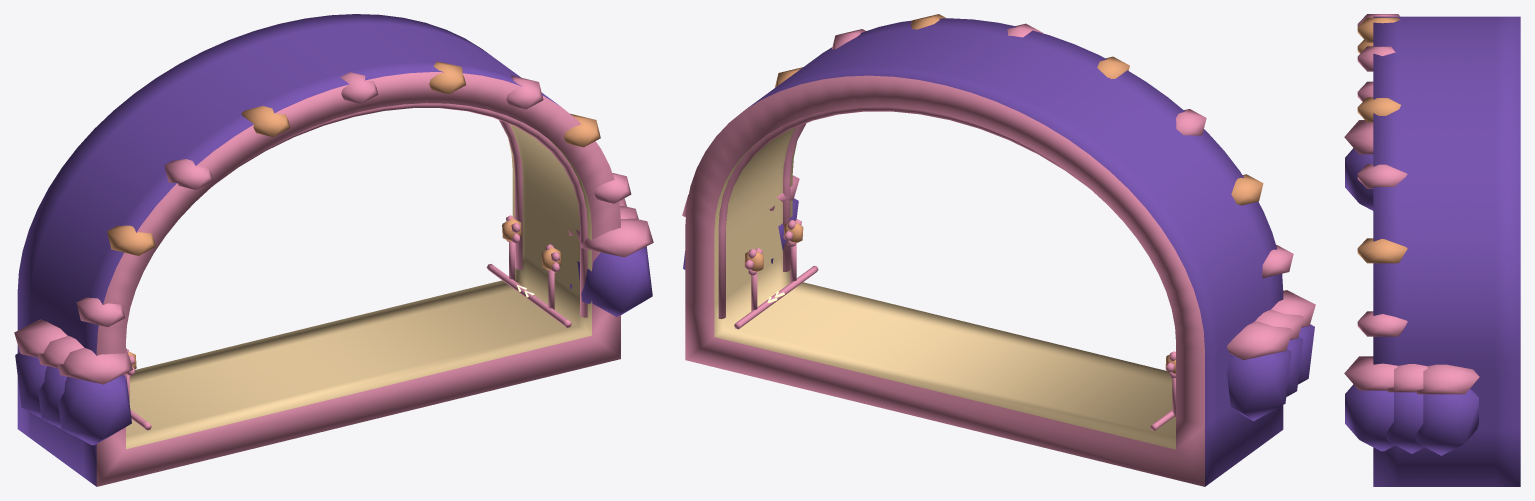
Rendered from portal_entry_lod1.glb.
3 views of the same model, side by side, from view 1: azimuth 30°, elevation 25°; view 2: azimuth 150°, elevation 25°; view 3: azimuth 270°, elevation 25° (orthographic). The views are drawn at different scales.
Parts seen in each view (by area): view 1: TunnelGeometry.001; view 2: TunnelGeometry.001; view 3: TunnelGeometry.001.
Part boxes in pixels (x1,y1,x2,y2): TunnelGeometry.001: (14, 14, 653, 486); TunnelGeometry.001: (682, 14, 1315, 486); TunnelGeometry.001: (1344, 14, 1520, 486).
Bounding box in the file's own units: 17.61 × 9.62 × 4.79.
5 materials, 2 textured.
